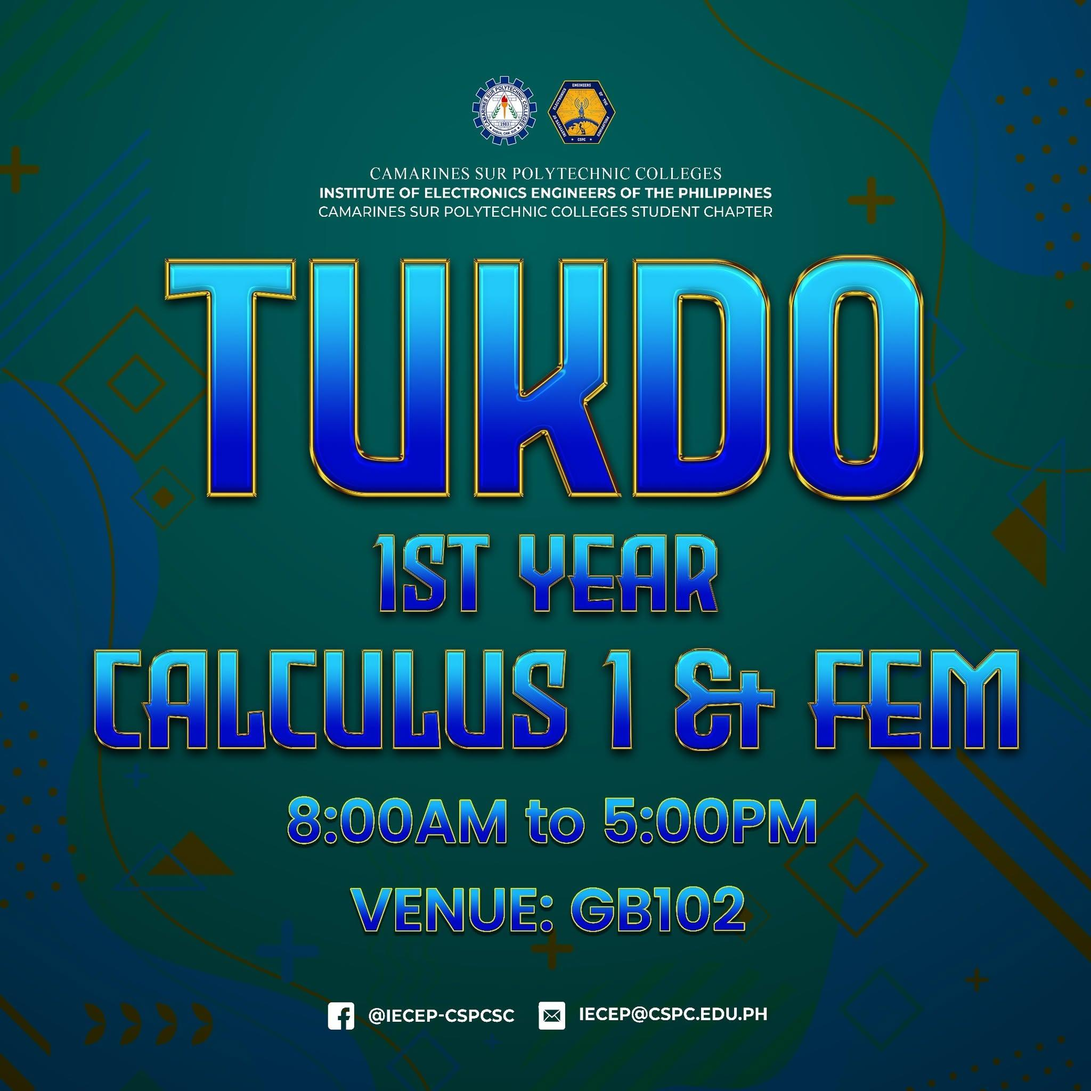embellishment: (323, 996, 356, 1034), (534, 998, 572, 1030)
logo: (469, 69, 543, 152), (549, 71, 618, 153)
text: (158, 245, 945, 517), (80, 637, 1033, 771), (275, 769, 833, 948), (370, 517, 733, 638), (313, 160, 780, 224), (574, 1002, 771, 1026), (364, 1004, 521, 1029)
